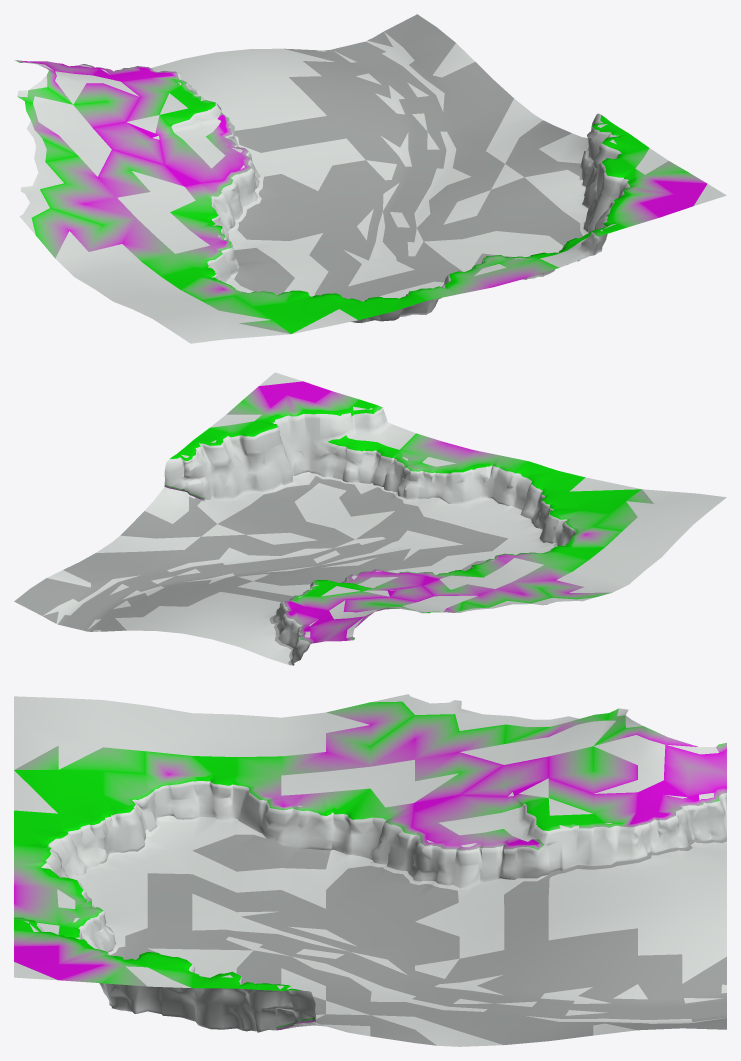
3 renders of one model, top to bottom at view 1: azimuth 30°, elevation 25°; view 2: azimuth 150°, elevation 25°; view 3: azimuth 270°, elevation 25°, orthographic. The views are drawn at different scales.
Parts seen in each view (by area): view 1: G:\FFXIV-MapTools\exports\f1f1\bg\ffxiv\fst_f1\fld\f1f1\bgpl (×15); view 2: G:\FFXIV-MapTools\exports\f1f1\bg\ffxiv\fst_f1\fld\f1f1\bgpl (×15); view 3: G:\FFXIV-MapTools\exports\f1f1\bg\ffxiv\fst_f1\fld\f1f1\bgpl (×15).
Boxes of the visible parts, <box> form: G:\FFXIV-MapTools\exports\f1f1\bg\ffxiv\fst_f1\fld\f1f1\bgpl (×15): <box>14,14,726,343</box>; G:\FFXIV-MapTools\exports\f1f1\bg\ffxiv\fst_f1\fld\f1f1\bgpl (×15): <box>14,372,726,665</box>; G:\FFXIV-MapTools\exports\f1f1\bg\ffxiv\fst_f1\fld\f1f1\bgpl (×15): <box>14,694,726,1046</box>.
Size of the model in its own units: 128 by 21.62 by 128.
